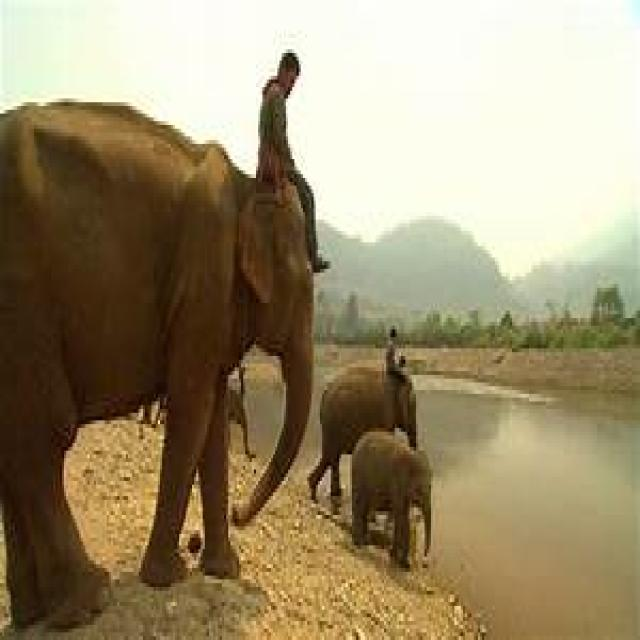elephant: (0, 102, 316, 636), (307, 352, 416, 500), (350, 432, 433, 568)
